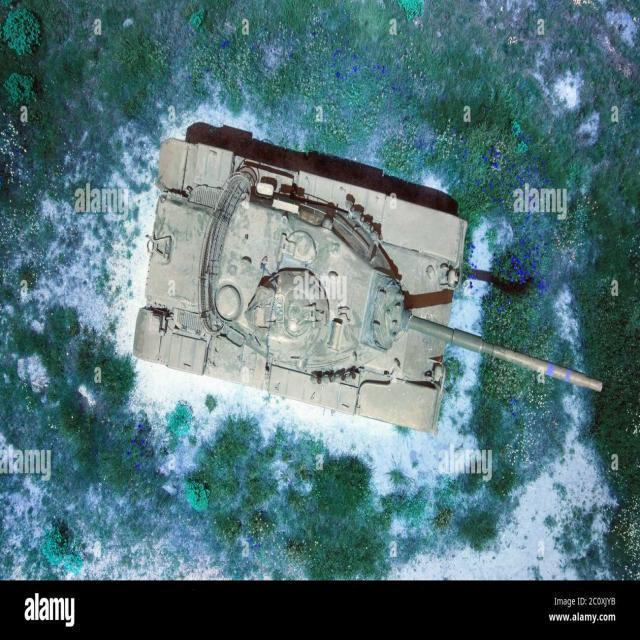MIL_MBT: (130, 133, 602, 437)
